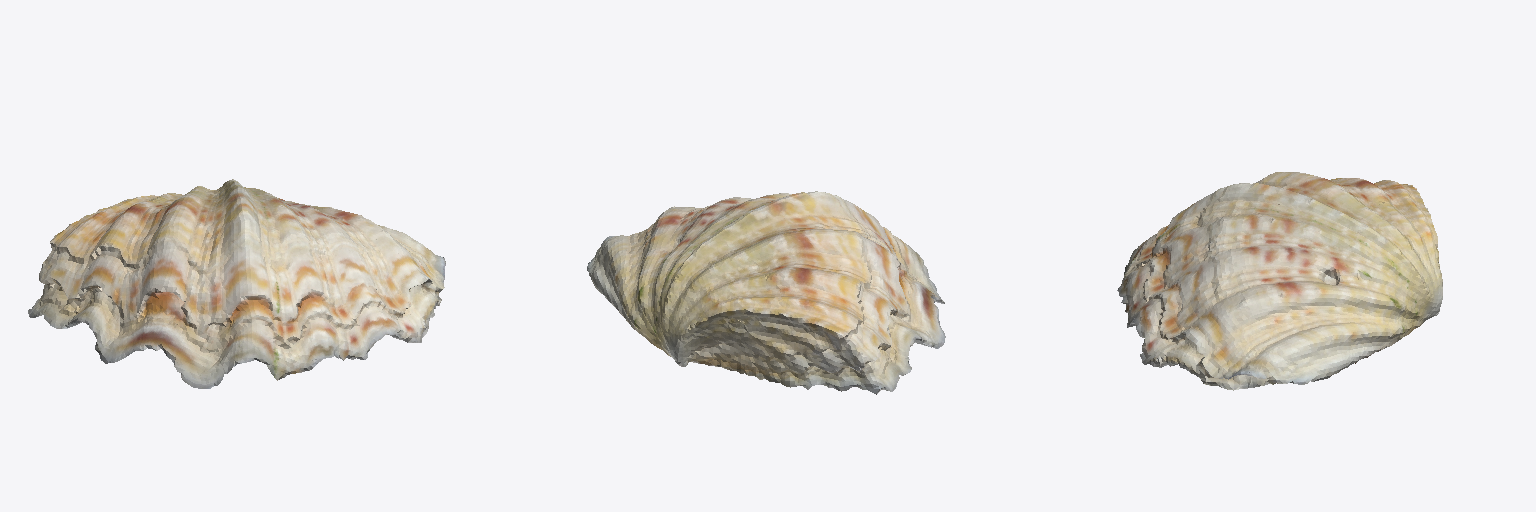
The picture shows the model from 3 angles: view 1: azimuth 30°, elevation 25°; view 2: azimuth 150°, elevation 25°; view 3: azimuth 270°, elevation 25°; orthographic projection.
Parts seen in each view (by area): view 1: Obj3d66_[number redacted]_43_493; view 2: Obj3d66_[number redacted]_43_493; view 3: Obj3d66_[number redacted]_43_493.
Part boxes in pixels (x1,y1,x2,y2): Obj3d66_[number redacted]_43_493: (28, 179, 445, 388); Obj3d66_[number redacted]_43_493: (587, 191, 945, 394); Obj3d66_[number redacted]_43_493: (1117, 172, 1442, 390).
Bounding box in the file's own units: 88.37 × 29.33 × 71.14.
Materials: 1 (1 with a texture image).